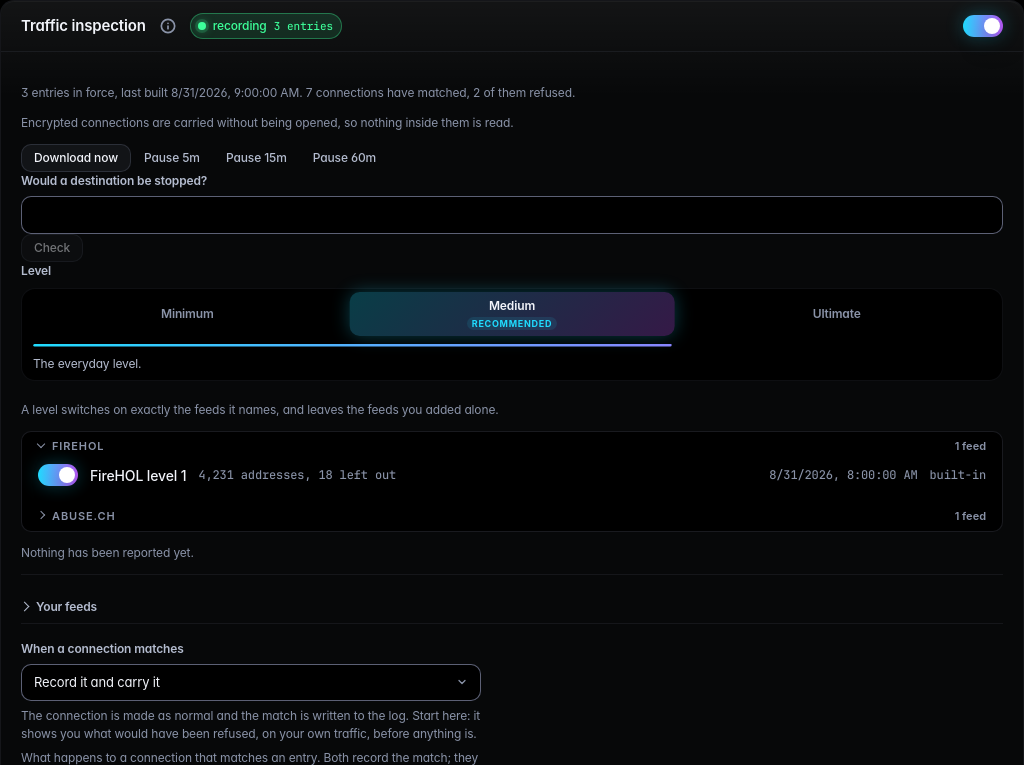
Test: what each feed contributed › opens the groups holding an enabled feed and leaves the rest shut
Click the button "abuse.ch 1 feed": (84, 516) x1=26 y1=496 x2=998 y2=526
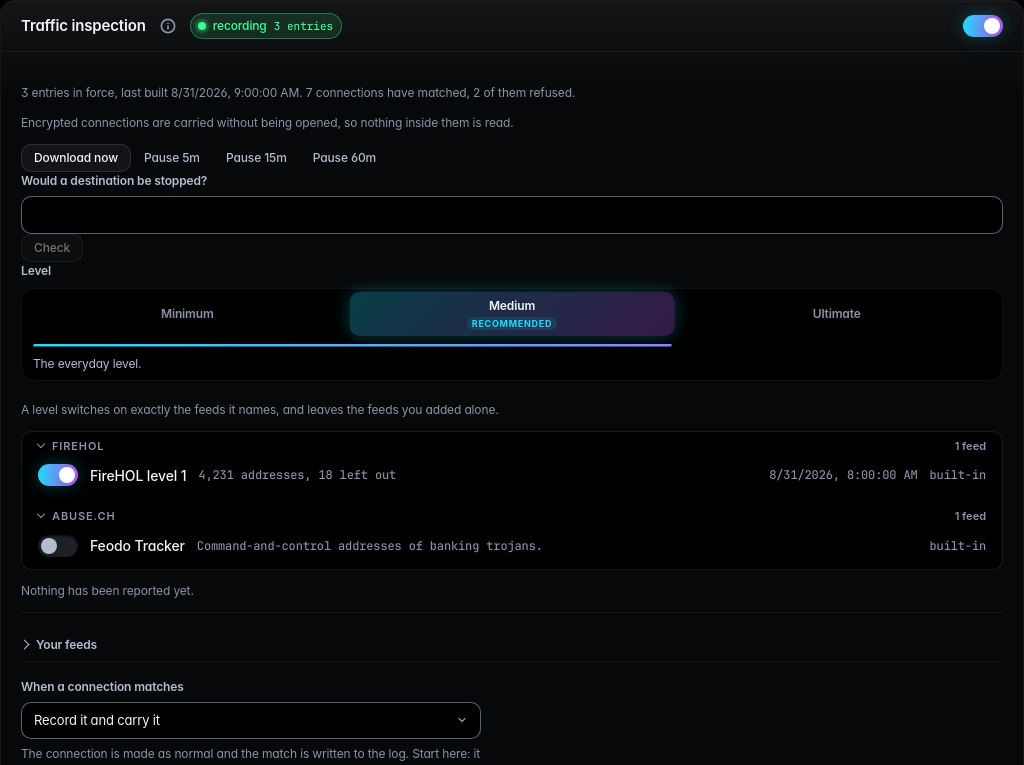
Check: the checkbox named "Use Feodo Tracker" is shown, box x1=38 y1=534 x2=78 y2=556
